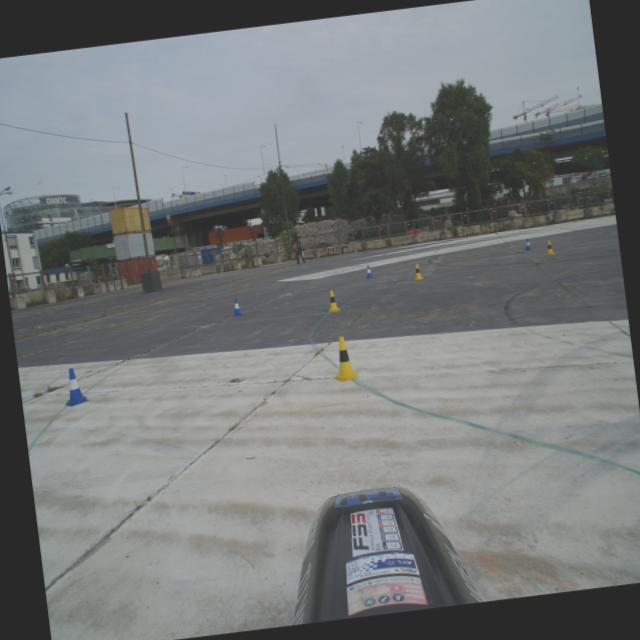blue_cone: (60, 366, 90, 407), (230, 296, 243, 316), (364, 264, 373, 278), (523, 238, 532, 250)
yellow_cone: (329, 334, 361, 382), (324, 288, 340, 312), (411, 263, 424, 280), (543, 240, 555, 256)
